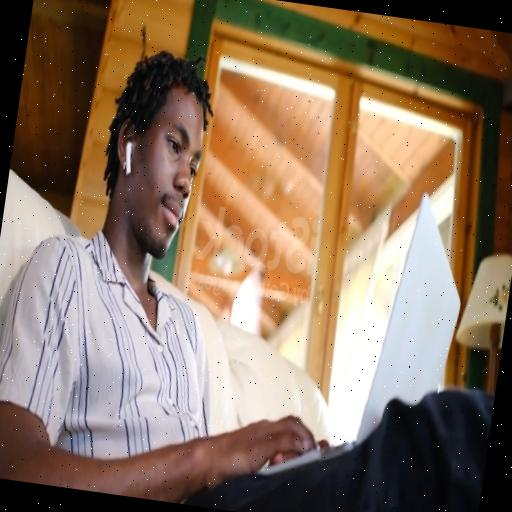earphone: (120, 142, 138, 184)
